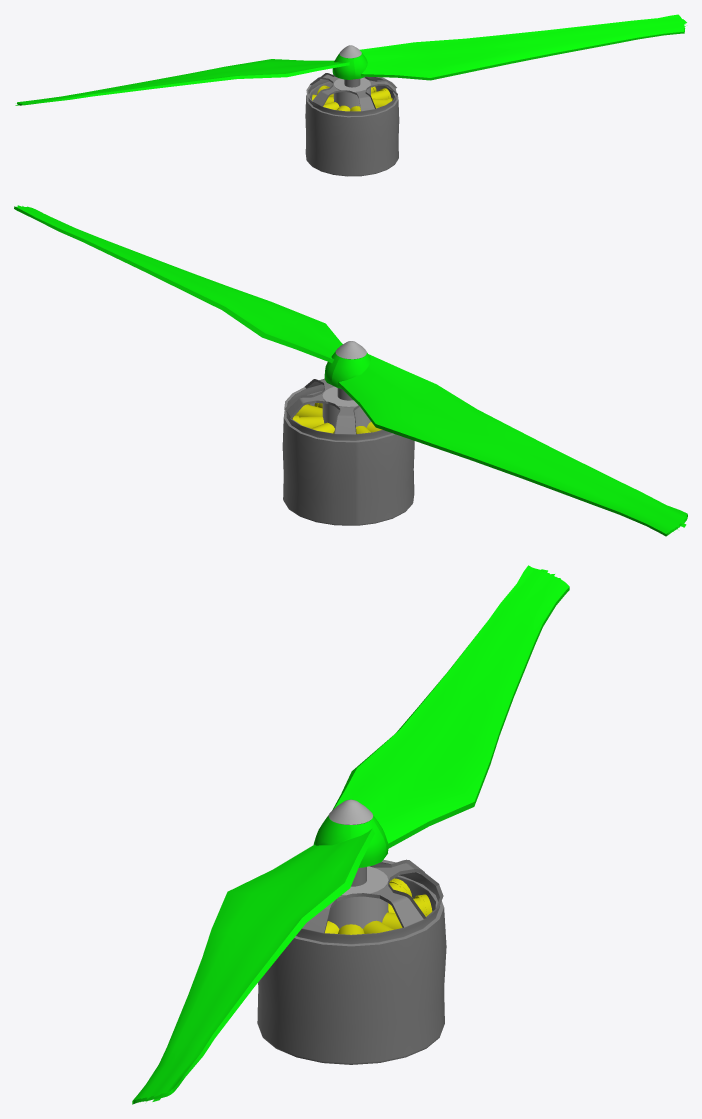
Rendered from motor_type_7.fbx.
The picture shows the model from 3 angles, top to bottom: view 1: azimuth 30°, elevation 25°; view 2: azimuth 150°, elevation 25°; view 3: azimuth 270°, elevation 25°; orthographic projection. The views are drawn at different scales.
Visible parts, largest first — view 1: polySurface8, pCylinder10, pCylinder11; view 2: polySurface8, pCylinder10, pCylinder11; view 3: polySurface8, pCylinder10, pCylinder11, polySurface7.
Part boxes in pixels (left/top/right/bottom): polySurface8: left=15, top=14, right=686, bottom=105; pCylinder10: left=305, top=73, right=399, bottom=176; pCylinder11: left=333, top=78, right=370, bottom=108; polySurface8: left=14, top=205, right=687, bottom=536; pCylinder10: left=282, top=378, right=414, bottom=525; pCylinder11: left=322, top=386, right=370, bottom=427; polySurface8: left=132, top=565, right=569, bottom=1104; pCylinder10: left=257, top=859, right=446, bottom=1064; pCylinder11: left=328, top=866, right=388, bottom=928; polySurface7: left=328, top=799, right=373, bottom=824.
Bounding box in the file's own units: 17.81 × 3.32 × 5.89.
